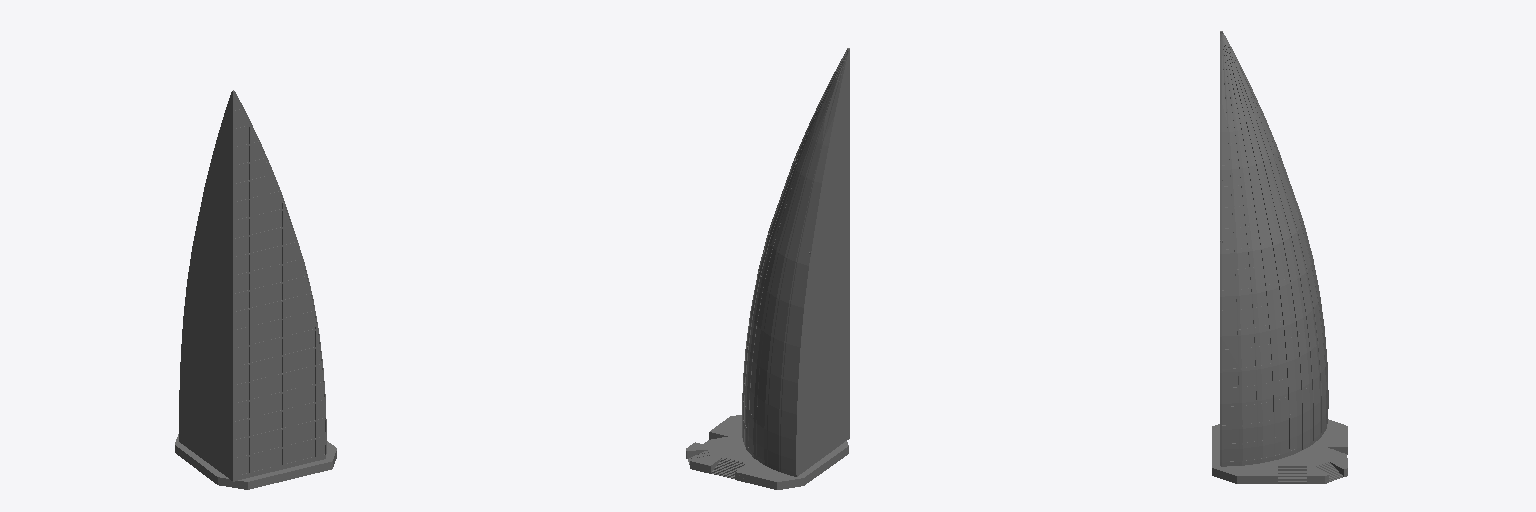
Rendered from skyscpr1.obj.
3 renders of one model, left to right at view 1: azimuth 30°, elevation 25°; view 2: azimuth 150°, elevation 25°; view 3: azimuth 270°, elevation 25°, orthographic.
Visible parts, largest first — view 1: 3DSMesh_0_0, 3DSMesh_4_3, 3DSMesh_1_1, 3DSMesh_5_4, 3DSMesh_7_4; view 2: 3DSMesh_0_0, 3DSMesh_5_4, 3DSMesh_3_2, 3DSMesh_4_3, 3DSMesh_7_4; view 3: 3DSMesh_0_0, 3DSMesh_3_2, 3DSMesh_5_4, 3DSMesh_1_1, 3DSMesh_7_4.
Boxes of the visible parts, <box> form: 3DSMesh_0_0: <box>179,92,325,479</box>; 3DSMesh_4_3: <box>184,90,317,480</box>; 3DSMesh_1_1: <box>189,92,325,481</box>; 3DSMesh_5_4: <box>175,445,336,489</box>; 3DSMesh_7_4: <box>175,434,336,481</box>; 3DSMesh_0_0: <box>743,51,848,476</box>; 3DSMesh_5_4: <box>686,427,848,489</box>; 3DSMesh_3_2: <box>742,49,848,476</box>; 3DSMesh_4_3: <box>801,48,849,473</box>; 3DSMesh_7_4: <box>686,415,848,481</box>; 3DSMesh_0_0: <box>1222,36,1328,461</box>; 3DSMesh_3_2: <box>1220,33,1328,466</box>; 3DSMesh_5_4: <box>1212,435,1347,483</box>; 3DSMesh_1_1: <box>1222,54,1317,462</box>; 3DSMesh_7_4: <box>1212,419,1347,475</box>.
Size of the model in its own units: 8.85 by 28.2 by 8.68.